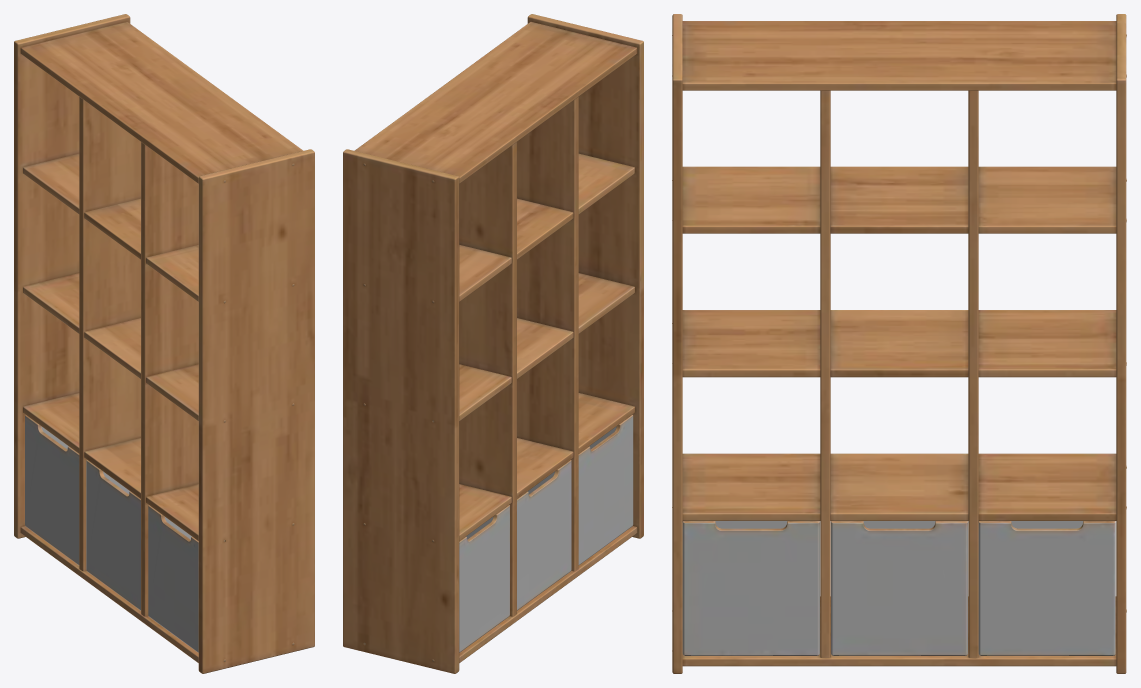
The model's file is wooden_display_shelves_01.gltf.
3 views of the same model, side by side, from view 1: azimuth 30°, elevation 25°; view 2: azimuth 150°, elevation 25°; view 3: azimuth 270°, elevation 25° (orthographic). The views are drawn at different scales.
Visible parts, largest first — view 1: wooden_display_shelves_01, wooden_display_shelves_01_drawer_02, wooden_display_shelves_01_drawer_01, wooden_display_shelves_01_drawer_03; view 2: wooden_display_shelves_01, wooden_display_shelves_01_drawer_03, wooden_display_shelves_01_drawer_02, wooden_display_shelves_01_drawer_01; view 3: wooden_display_shelves_01, wooden_display_shelves_01_drawer_03, wooden_display_shelves_01_drawer_01, wooden_display_shelves_01_drawer_02.
Boxes of the visible parts, left/top/right/bottom form: wooden_display_shelves_01: left=14, top=14, right=314, bottom=673; wooden_display_shelves_01_drawer_02: left=86, top=460, right=140, bottom=610; wooden_display_shelves_01_drawer_01: left=25, top=415, right=79, bottom=565; wooden_display_shelves_01_drawer_03: left=148, top=505, right=198, bottom=652; wooden_display_shelves_01: left=343, top=14, right=643, bottom=673; wooden_display_shelves_01_drawer_03: left=578, top=415, right=633, bottom=565; wooden_display_shelves_01_drawer_02: left=517, top=460, right=571, bottom=610; wooden_display_shelves_01_drawer_01: left=459, top=505, right=509, bottom=652; wooden_display_shelves_01: left=672, top=14, right=1126, bottom=673; wooden_display_shelves_01_drawer_03: left=682, top=521, right=819, bottom=655; wooden_display_shelves_01_drawer_01: left=978, top=521, right=1115, bottom=655; wooden_display_shelves_01_drawer_02: left=831, top=521, right=967, bottom=655.
Bounding box in the file's own units: 0.3715 × 1.56 × 1.08.
Materials: 1 (1 with a texture image).
